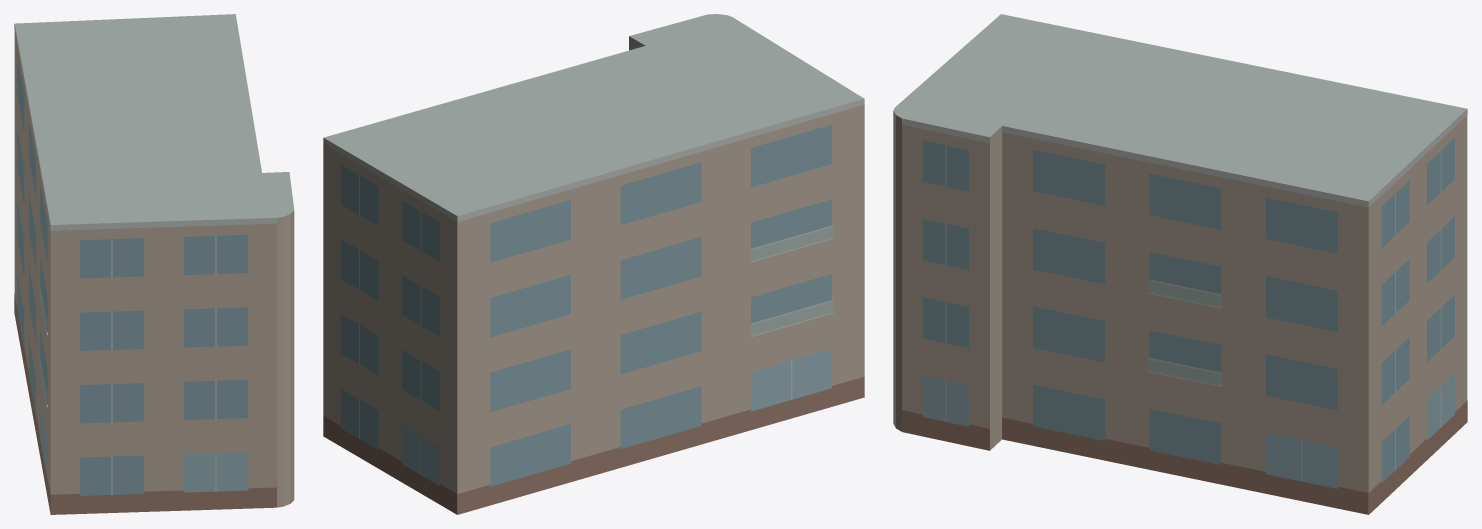
The model's file is survey-upis-32637458.glb.
The picture shows the model from 3 angles, left to right: view 1: azimuth 30°, elevation 25°; view 2: azimuth 150°, elevation 25°; view 3: azimuth 270°, elevation 25°; orthographic projection. The views are drawn at different scales.
Visible parts, largest first — view 1: survey-upis-32637458.tmp; view 2: survey-upis-32637458.tmp; view 3: survey-upis-32637458.tmp.
Boxes of the visible parts, x1=… form: survey-upis-32637458.tmp: x1=14, y1=14, x2=294, y2=514; survey-upis-32637458.tmp: x1=323, y1=14, x2=864, y2=514; survey-upis-32637458.tmp: x1=893, y1=14, x2=1467, y2=514.
Bounding box in the file's own units: 15.65 × 12.2 × 20.25.
